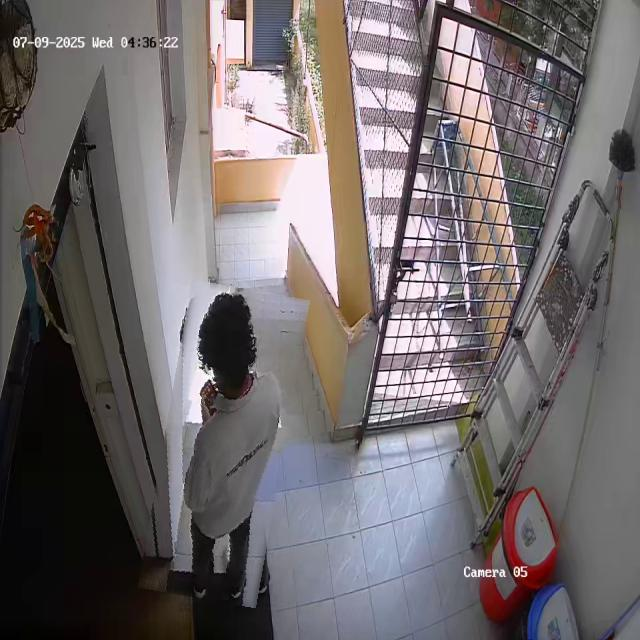person: (151, 283, 297, 604)
